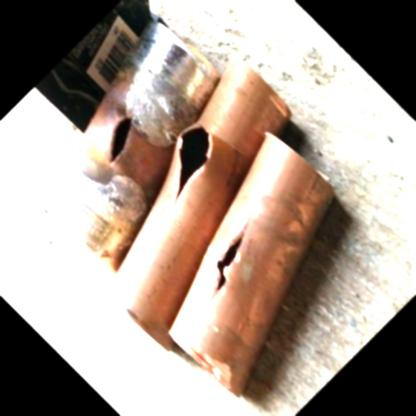burst: (202, 225, 263, 295), (170, 121, 221, 202), (102, 114, 141, 165)
